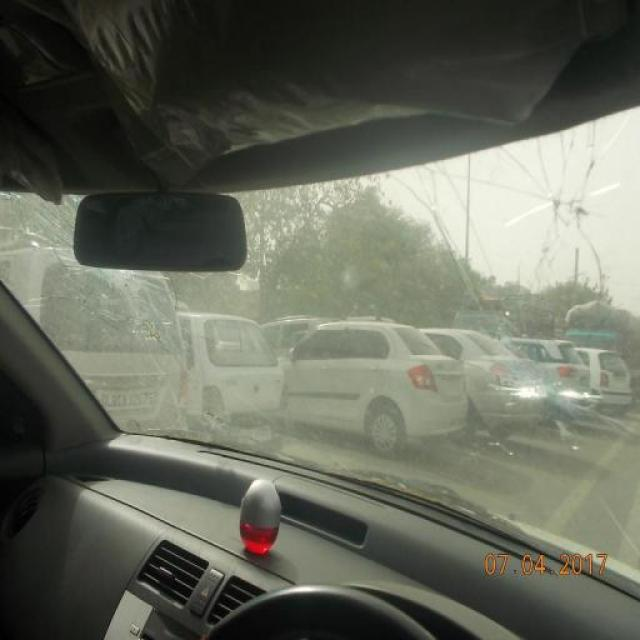crack: (466, 112, 640, 290), (47, 216, 190, 358), (479, 357, 608, 449)
